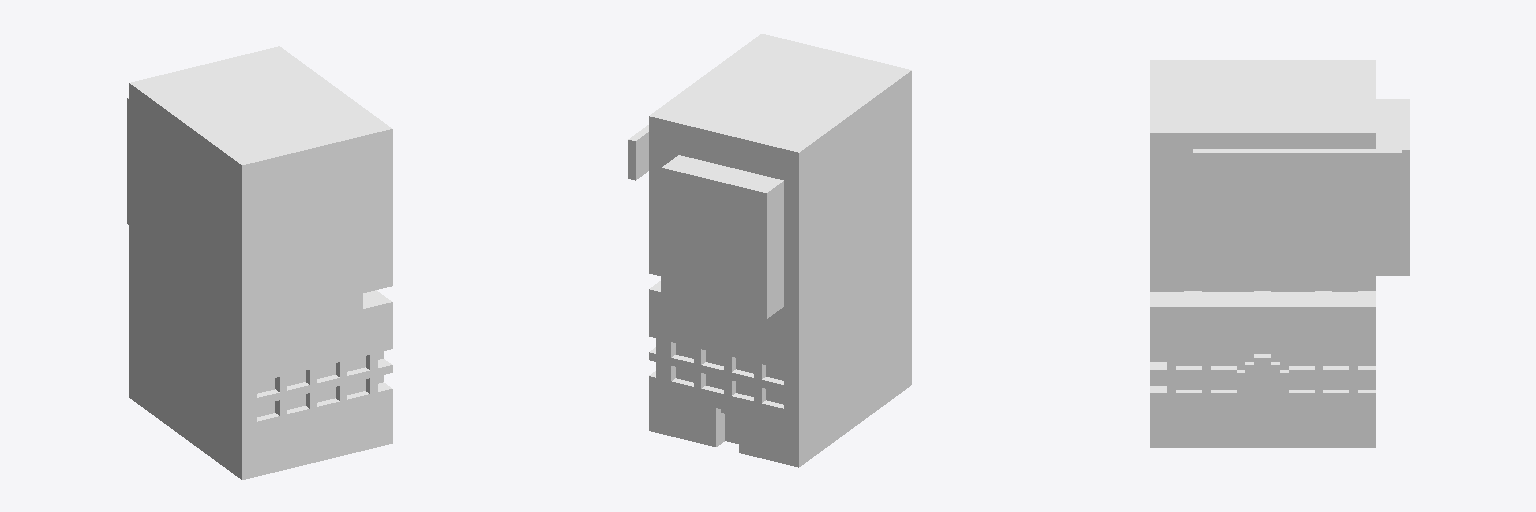
The model's file is building01.obj.
The picture shows the model from 3 angles: view 1: azimuth 30°, elevation 25°; view 2: azimuth 150°, elevation 25°; view 3: azimuth 270°, elevation 25°; orthographic projection.
Parts seen in each view (by area): view 1: object 1; view 2: object 1; view 3: object 1.
Boxes of the visible parts, box(x1,y1,x2,y2) form: object 1: box(127, 46, 392, 479); object 1: box(628, 34, 911, 467); object 1: box(1150, 60, 1409, 447).
Size of the model in its own units: 2.1 by 4 by 3.